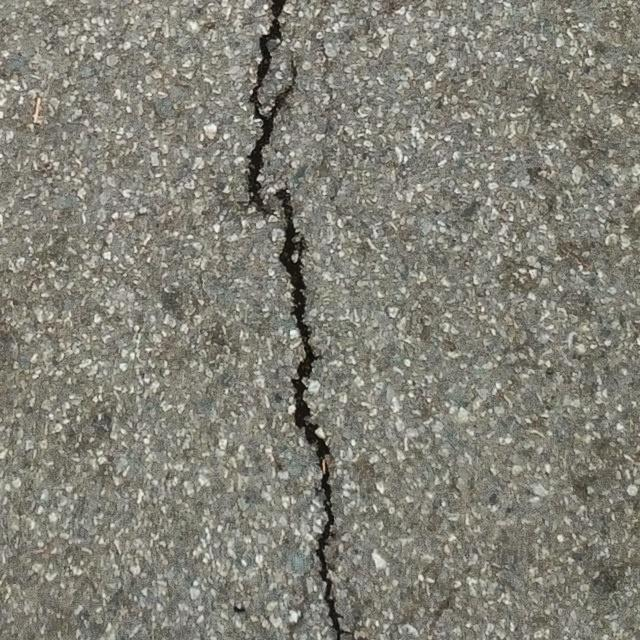LongitudinalCrack: (243, 1, 351, 640)
